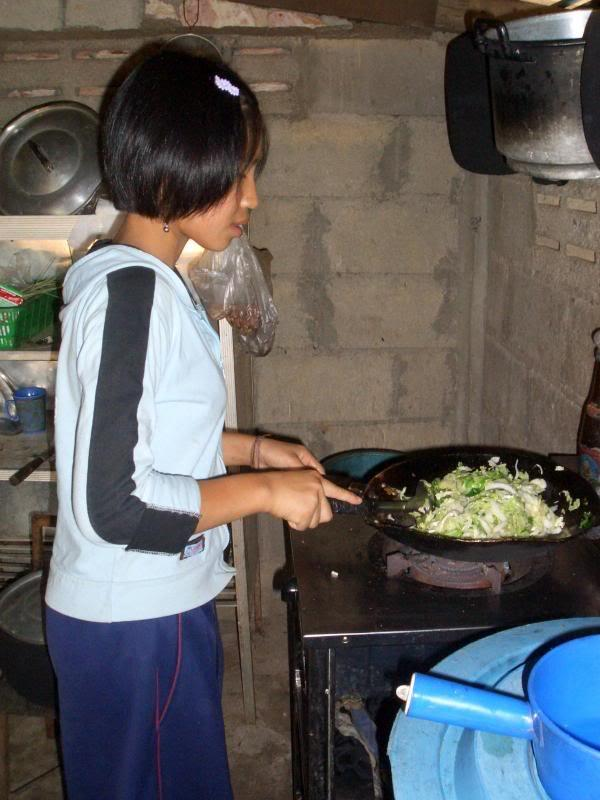person: (45, 39, 369, 792)
